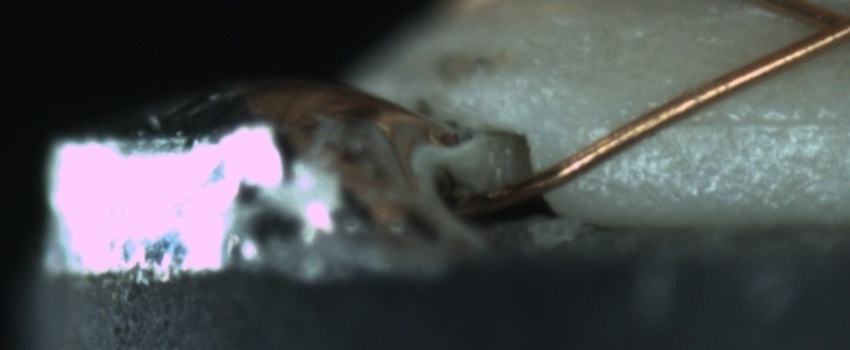CL: (782, 1, 849, 59)
DL: (643, 93, 847, 154)
